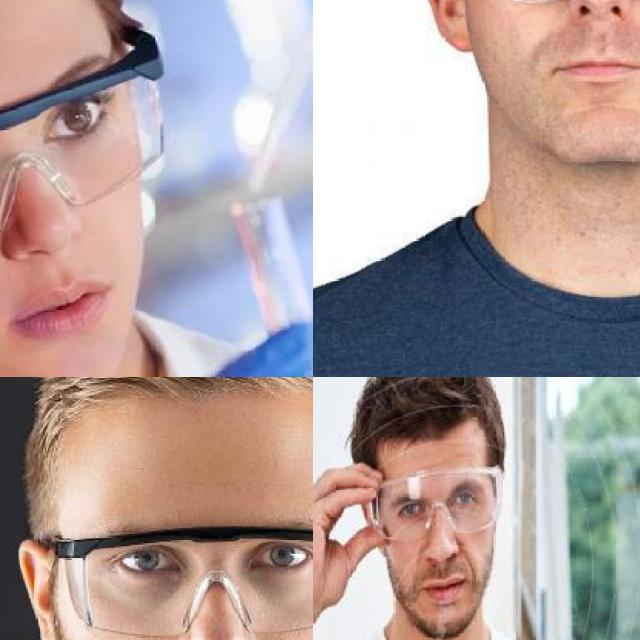No_Ear-Protection: (425, 0, 481, 61)
face_nomask: (0, 81, 127, 354), (100, 526, 313, 640), (501, 0, 640, 106), (392, 474, 495, 607)
glasses: (0, 22, 168, 264), (42, 521, 313, 638), (364, 461, 503, 545)
hand_glove: (110, 307, 313, 377)
hand_noglove: (313, 455, 395, 598)
head_nohelmet: (47, 377, 313, 451), (351, 377, 507, 456)
person: (313, 377, 640, 640)
